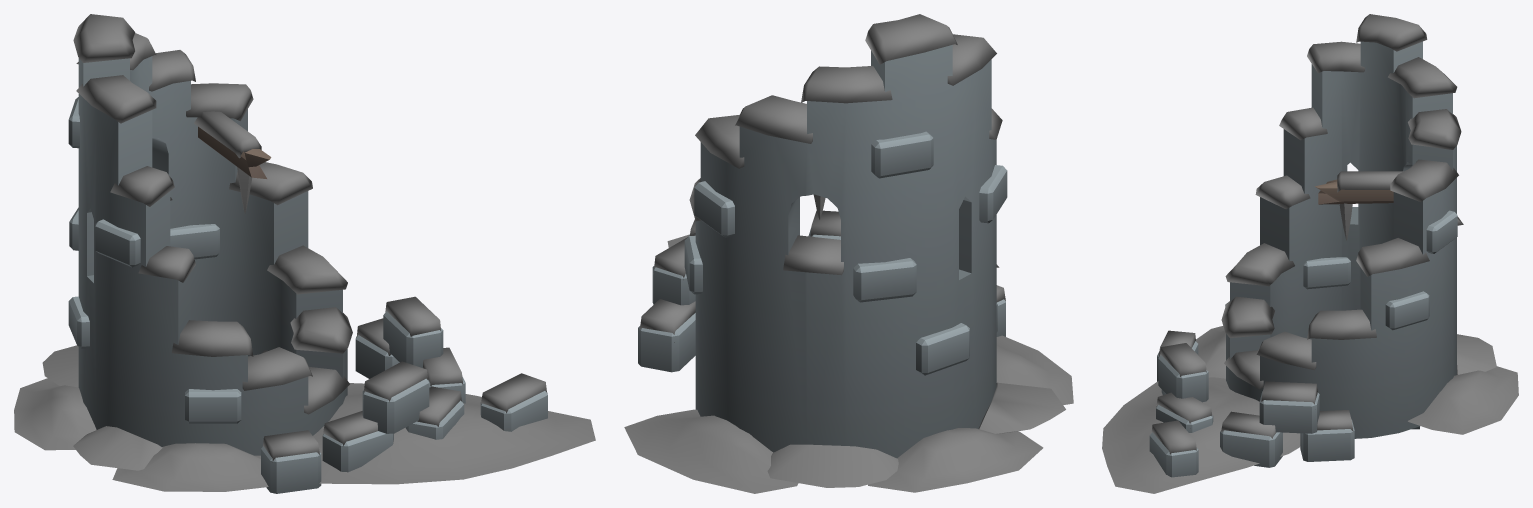
The model's file is tower_ruin_lavender.fbx.
The picture shows the model from 3 angles, left to right: view 1: azimuth 30°, elevation 25°; view 2: azimuth 150°, elevation 25°; view 3: azimuth 270°, elevation 25°; orthographic projection. The views are drawn at different scales.
Visible parts, largest first — view 1: tower_ruin_lavender; view 2: tower_ruin_lavender; view 3: tower_ruin_lavender.
Part boxes in pixels (left/top/right/bottom): tower_ruin_lavender: left=14, top=14, right=595, bottom=493; tower_ruin_lavender: left=624, top=14, right=1073, bottom=493; tower_ruin_lavender: left=1102, top=14, right=1518, bottom=493.
Size of the model in its own units: 3.82 by 3.24 by 3.61.
